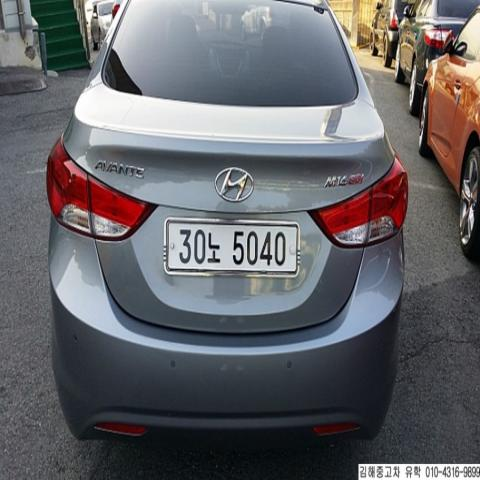LP: (158, 212, 302, 288)
